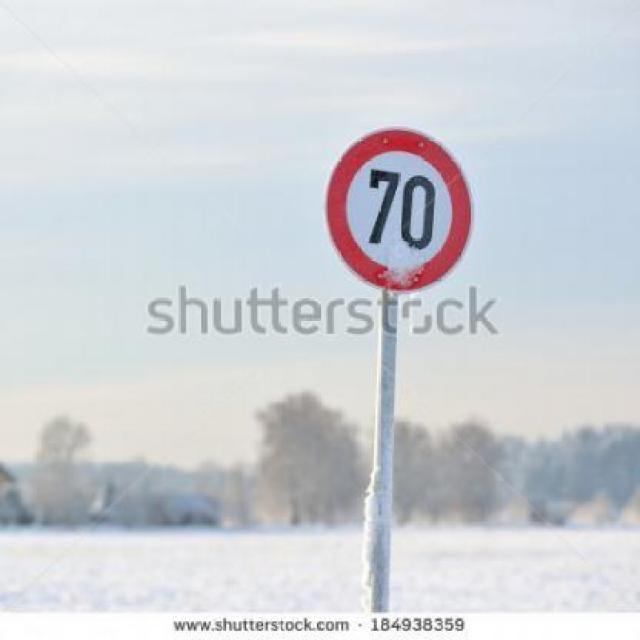speed_limit_70: (333, 127, 475, 296)
